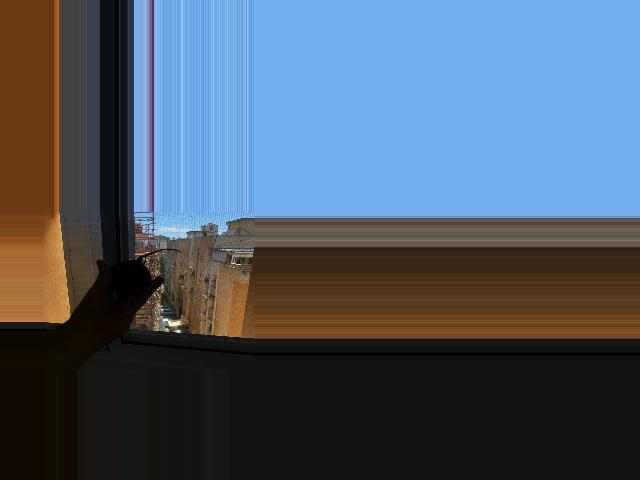beet: (111, 248, 183, 297)
